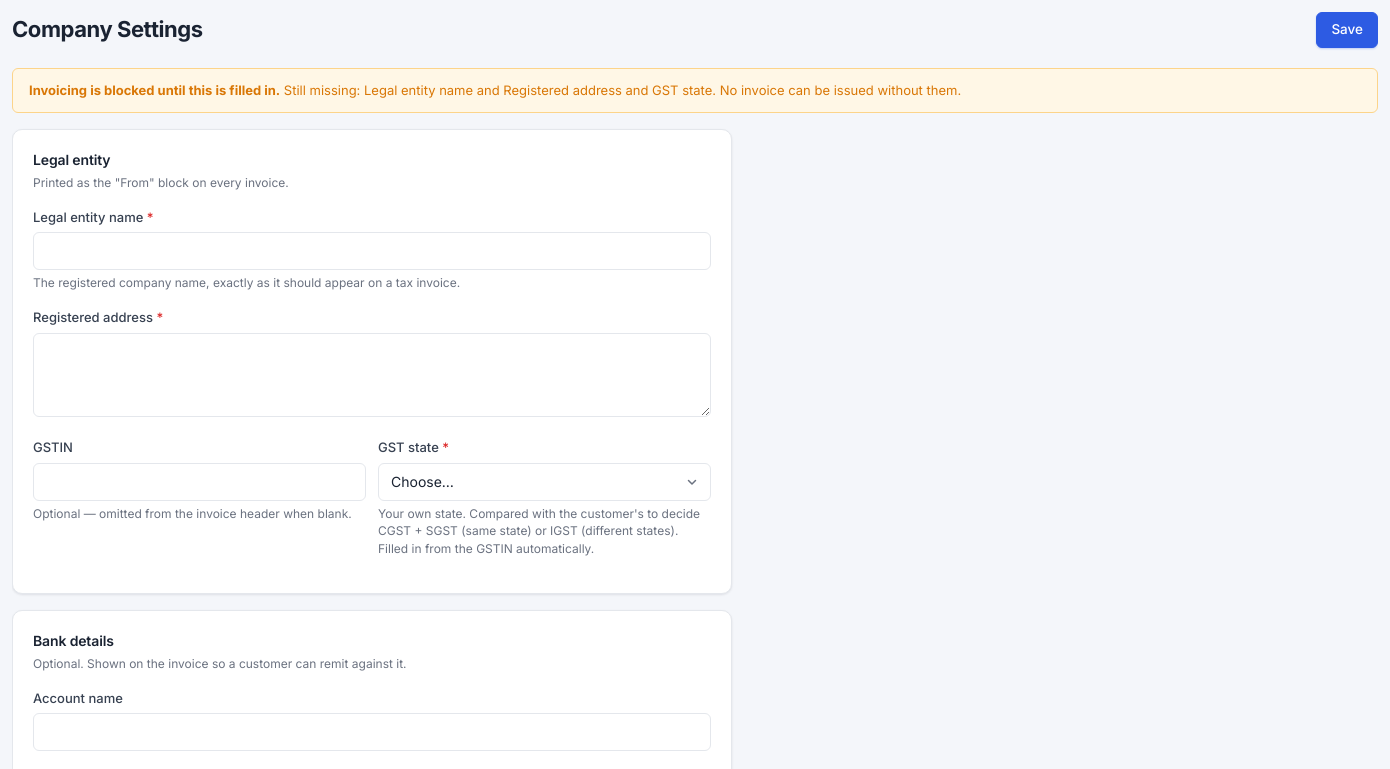
AdminCompanySettingsComponent › refuses to save while a gate field is blank, without issuing a request
The image size is (1390, 769).
Type "M2C Sourcing Pvt Ltd" into the field with id "cs-legal-name" at (372, 251), box [33,232,711,270]
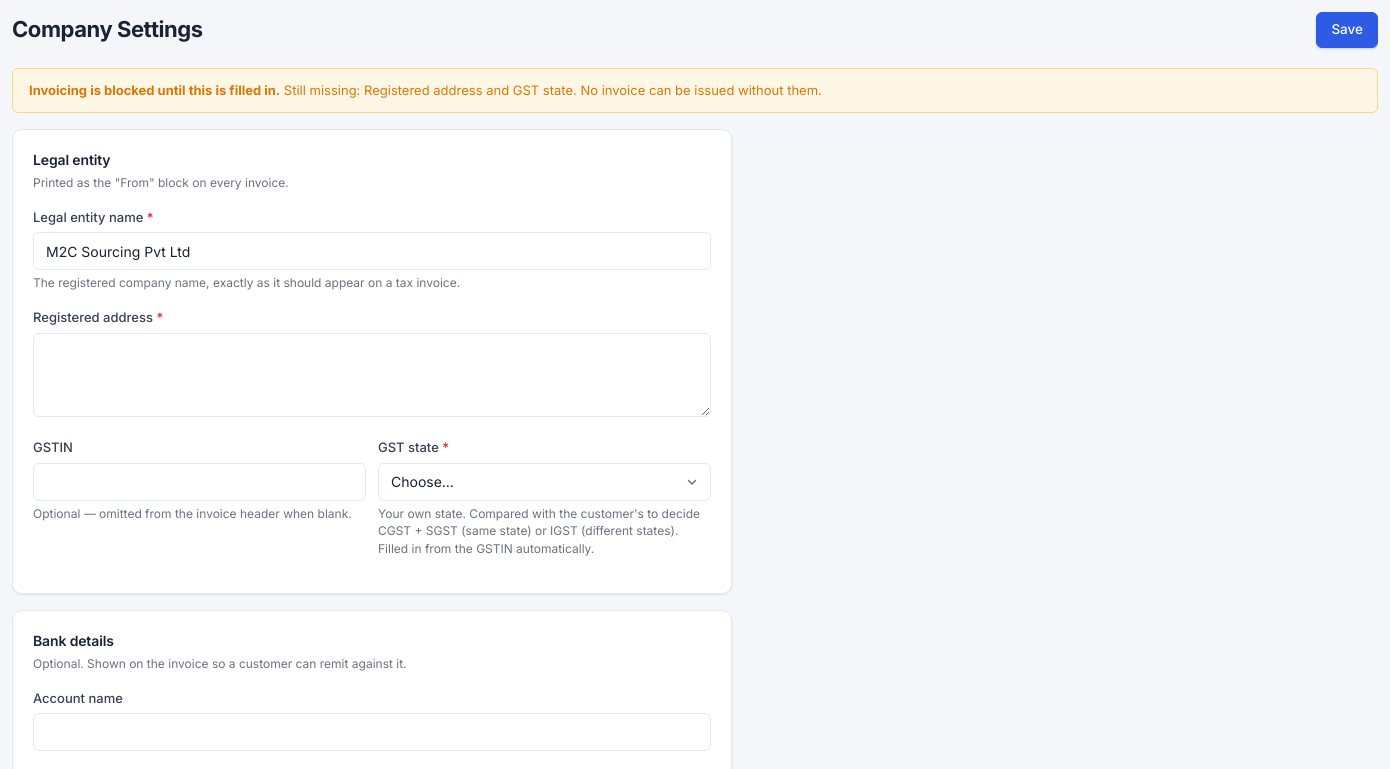
Click the button "Save" at (1347, 30), box [1316,12,1378,48]
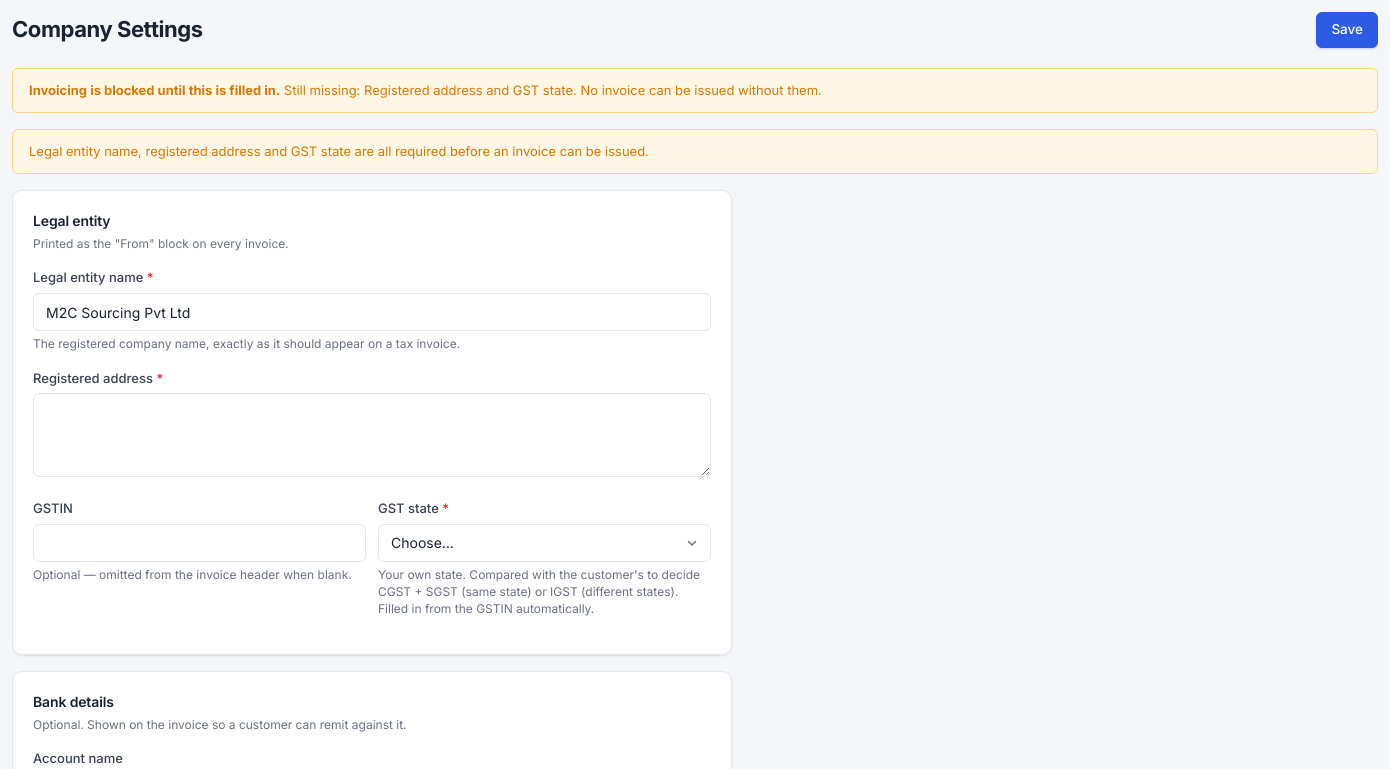
Check: the text "Legal entity name, registered address and GST state are all required" is shown, box [29,143,649,159]
